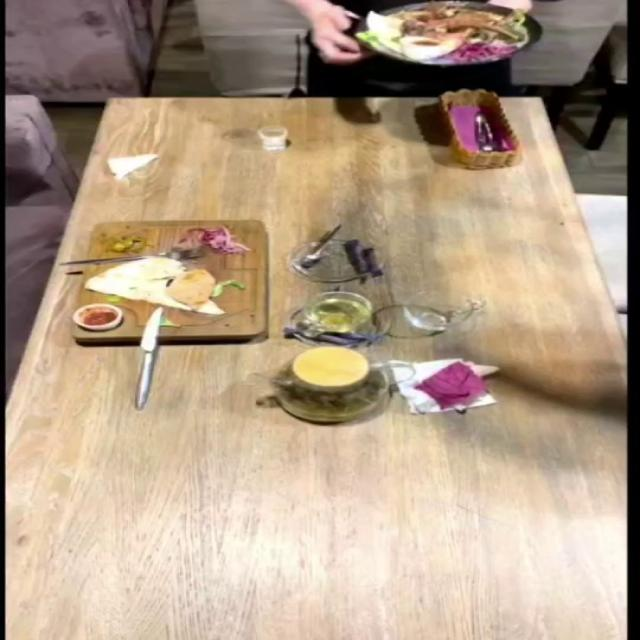meat: (378, 3, 524, 64)
tea: (277, 345, 402, 435)
